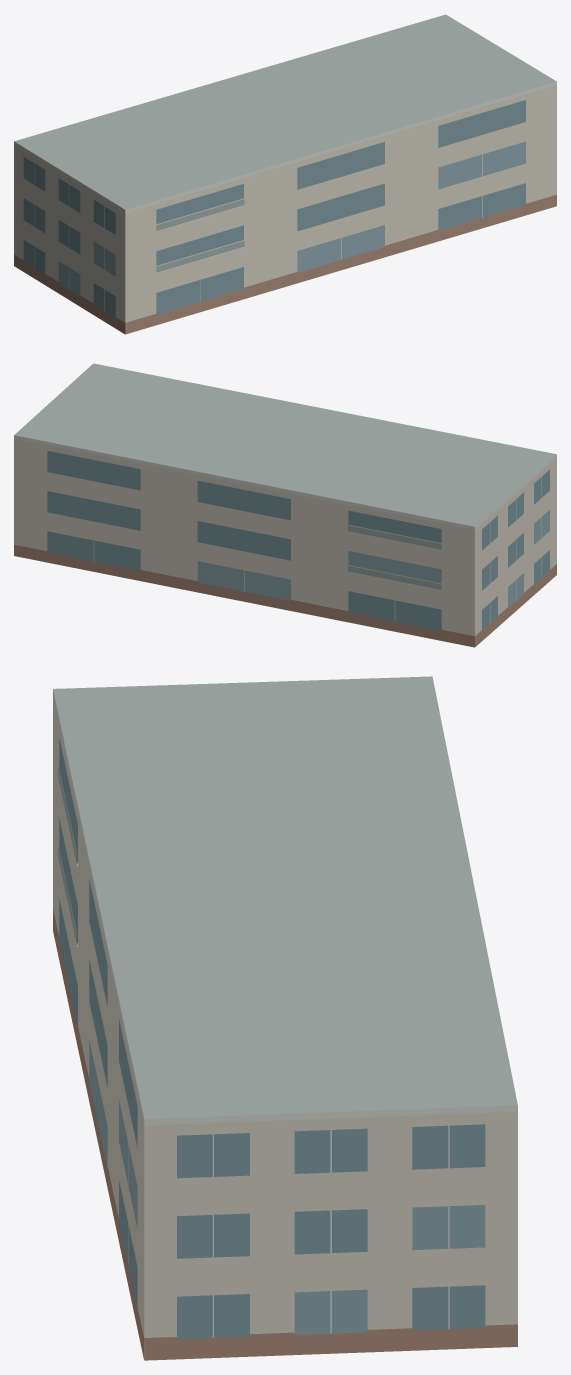
File: survey-upis-32632704.glb
3 renders of one model, top to bottom at view 1: azimuth 30°, elevation 25°; view 2: azimuth 150°, elevation 25°; view 3: azimuth 270°, elevation 25°, orthographic. The views are drawn at different scales.
Parts seen in each view (by area): view 1: survey-upis-32632704.tmp; view 2: survey-upis-32632704.tmp; view 3: survey-upis-32632704.tmp.
Boxes of the visible parts, left/top/right/bottom form: survey-upis-32632704.tmp: left=14, top=14, right=556, bottom=334; survey-upis-32632704.tmp: left=14, top=363, right=556, bottom=647; survey-upis-32632704.tmp: left=53, top=676, right=517, bottom=1360.
Bounding box in the file's own units: 35.97 × 9.15 × 15.97.
